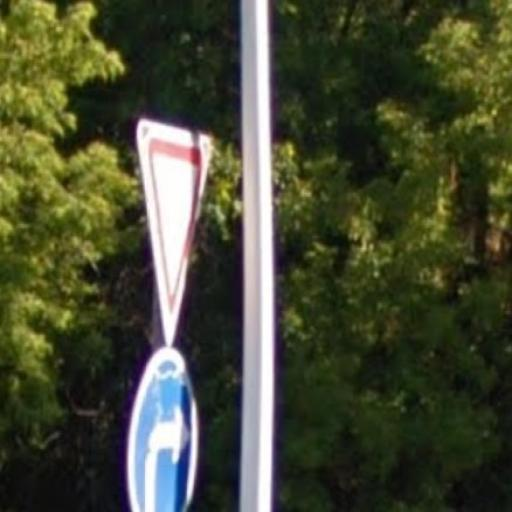traffic_sign: (137, 117, 215, 350)
